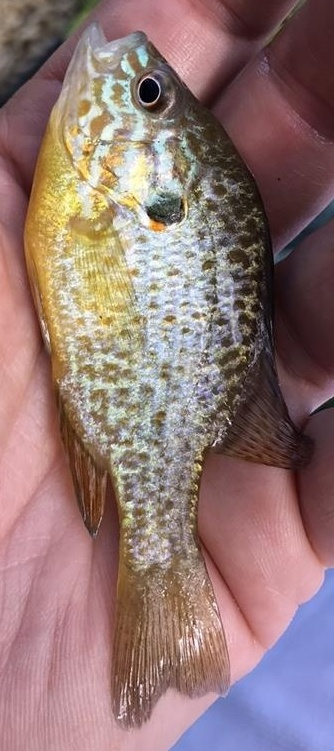Lepomis gibbosus: (20, 20, 314, 731)
